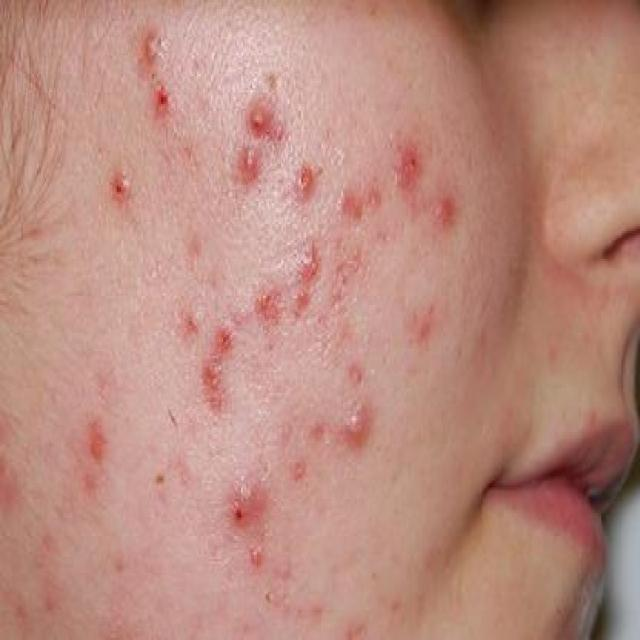dark spot: (75, 411, 114, 469), (249, 282, 288, 328), (354, 174, 383, 234), (340, 351, 375, 391), (203, 386, 234, 427), (35, 584, 63, 628), (332, 185, 362, 226), (145, 457, 172, 497), (305, 411, 332, 448), (288, 287, 317, 321), (198, 354, 224, 391), (285, 455, 312, 488), (180, 314, 202, 340), (11, 596, 29, 624)
papules: (218, 467, 276, 531), (388, 134, 429, 196), (422, 190, 463, 242), (286, 238, 328, 282), (212, 321, 242, 356)
pustules: (237, 92, 289, 146), (335, 390, 377, 450), (283, 155, 322, 208), (146, 72, 183, 122), (100, 166, 137, 212), (228, 143, 262, 192), (132, 23, 166, 65), (291, 162, 320, 201), (245, 534, 268, 566)
